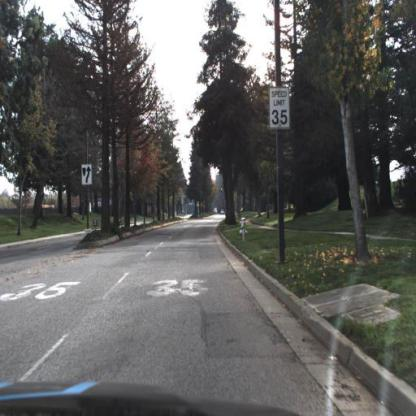car: (221, 211, 225, 216)
trafficLight-Red: (222, 189, 223, 193)
